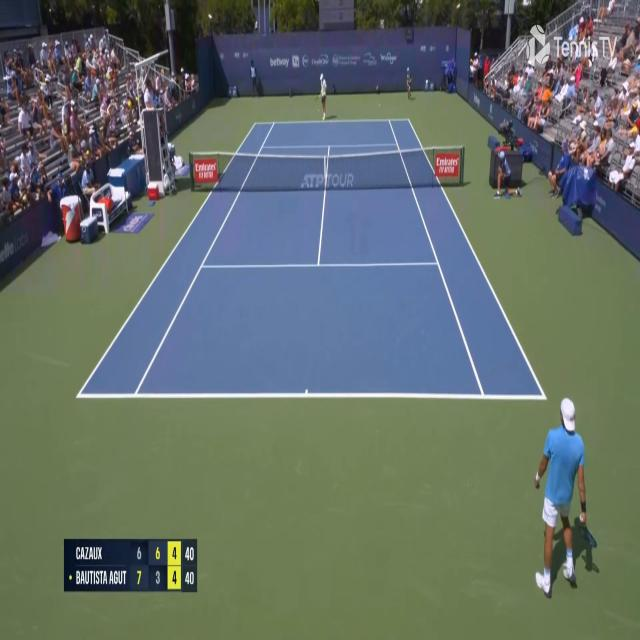tennis-player: (532, 393, 602, 601), (316, 71, 334, 120)
